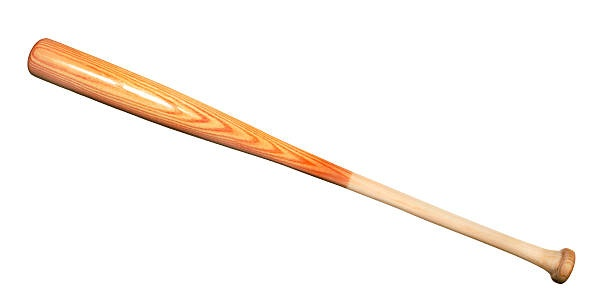bita: (31, 39, 578, 285)
